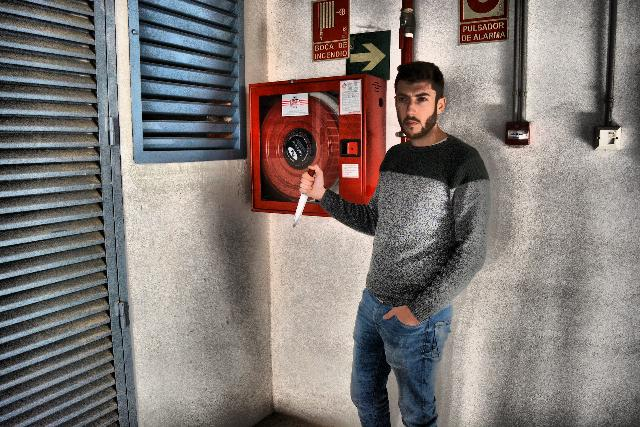knife: (291, 162, 317, 232)
